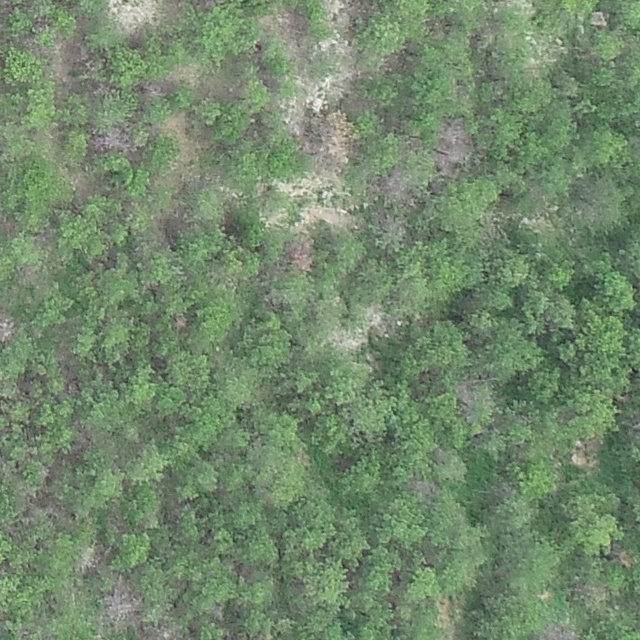unhealthy: (309, 110, 356, 162), (432, 118, 475, 169), (101, 579, 142, 625), (377, 170, 414, 206), (51, 39, 89, 73), (569, 576, 610, 603), (93, 126, 134, 153), (75, 543, 109, 575), (286, 237, 316, 273), (536, 620, 580, 640), (406, 476, 437, 502), (136, 623, 180, 640), (0, 304, 18, 344), (608, 544, 635, 568), (589, 10, 609, 29), (172, 313, 190, 331)
